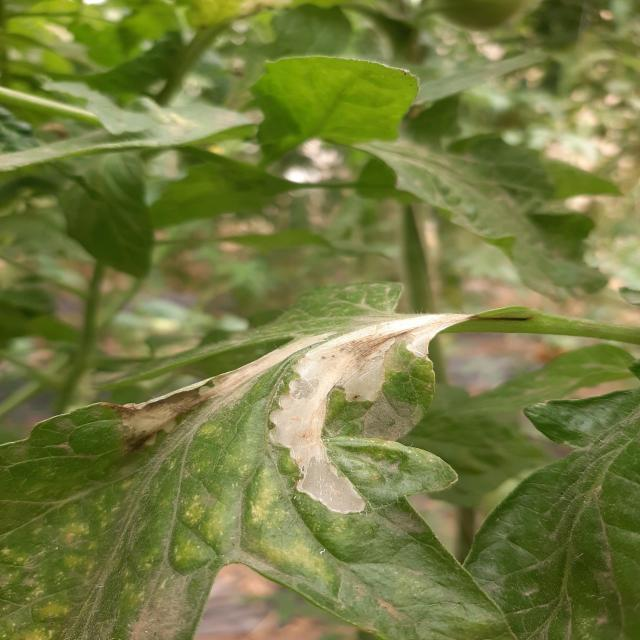Tuta absoluta: (243, 256, 468, 525)
